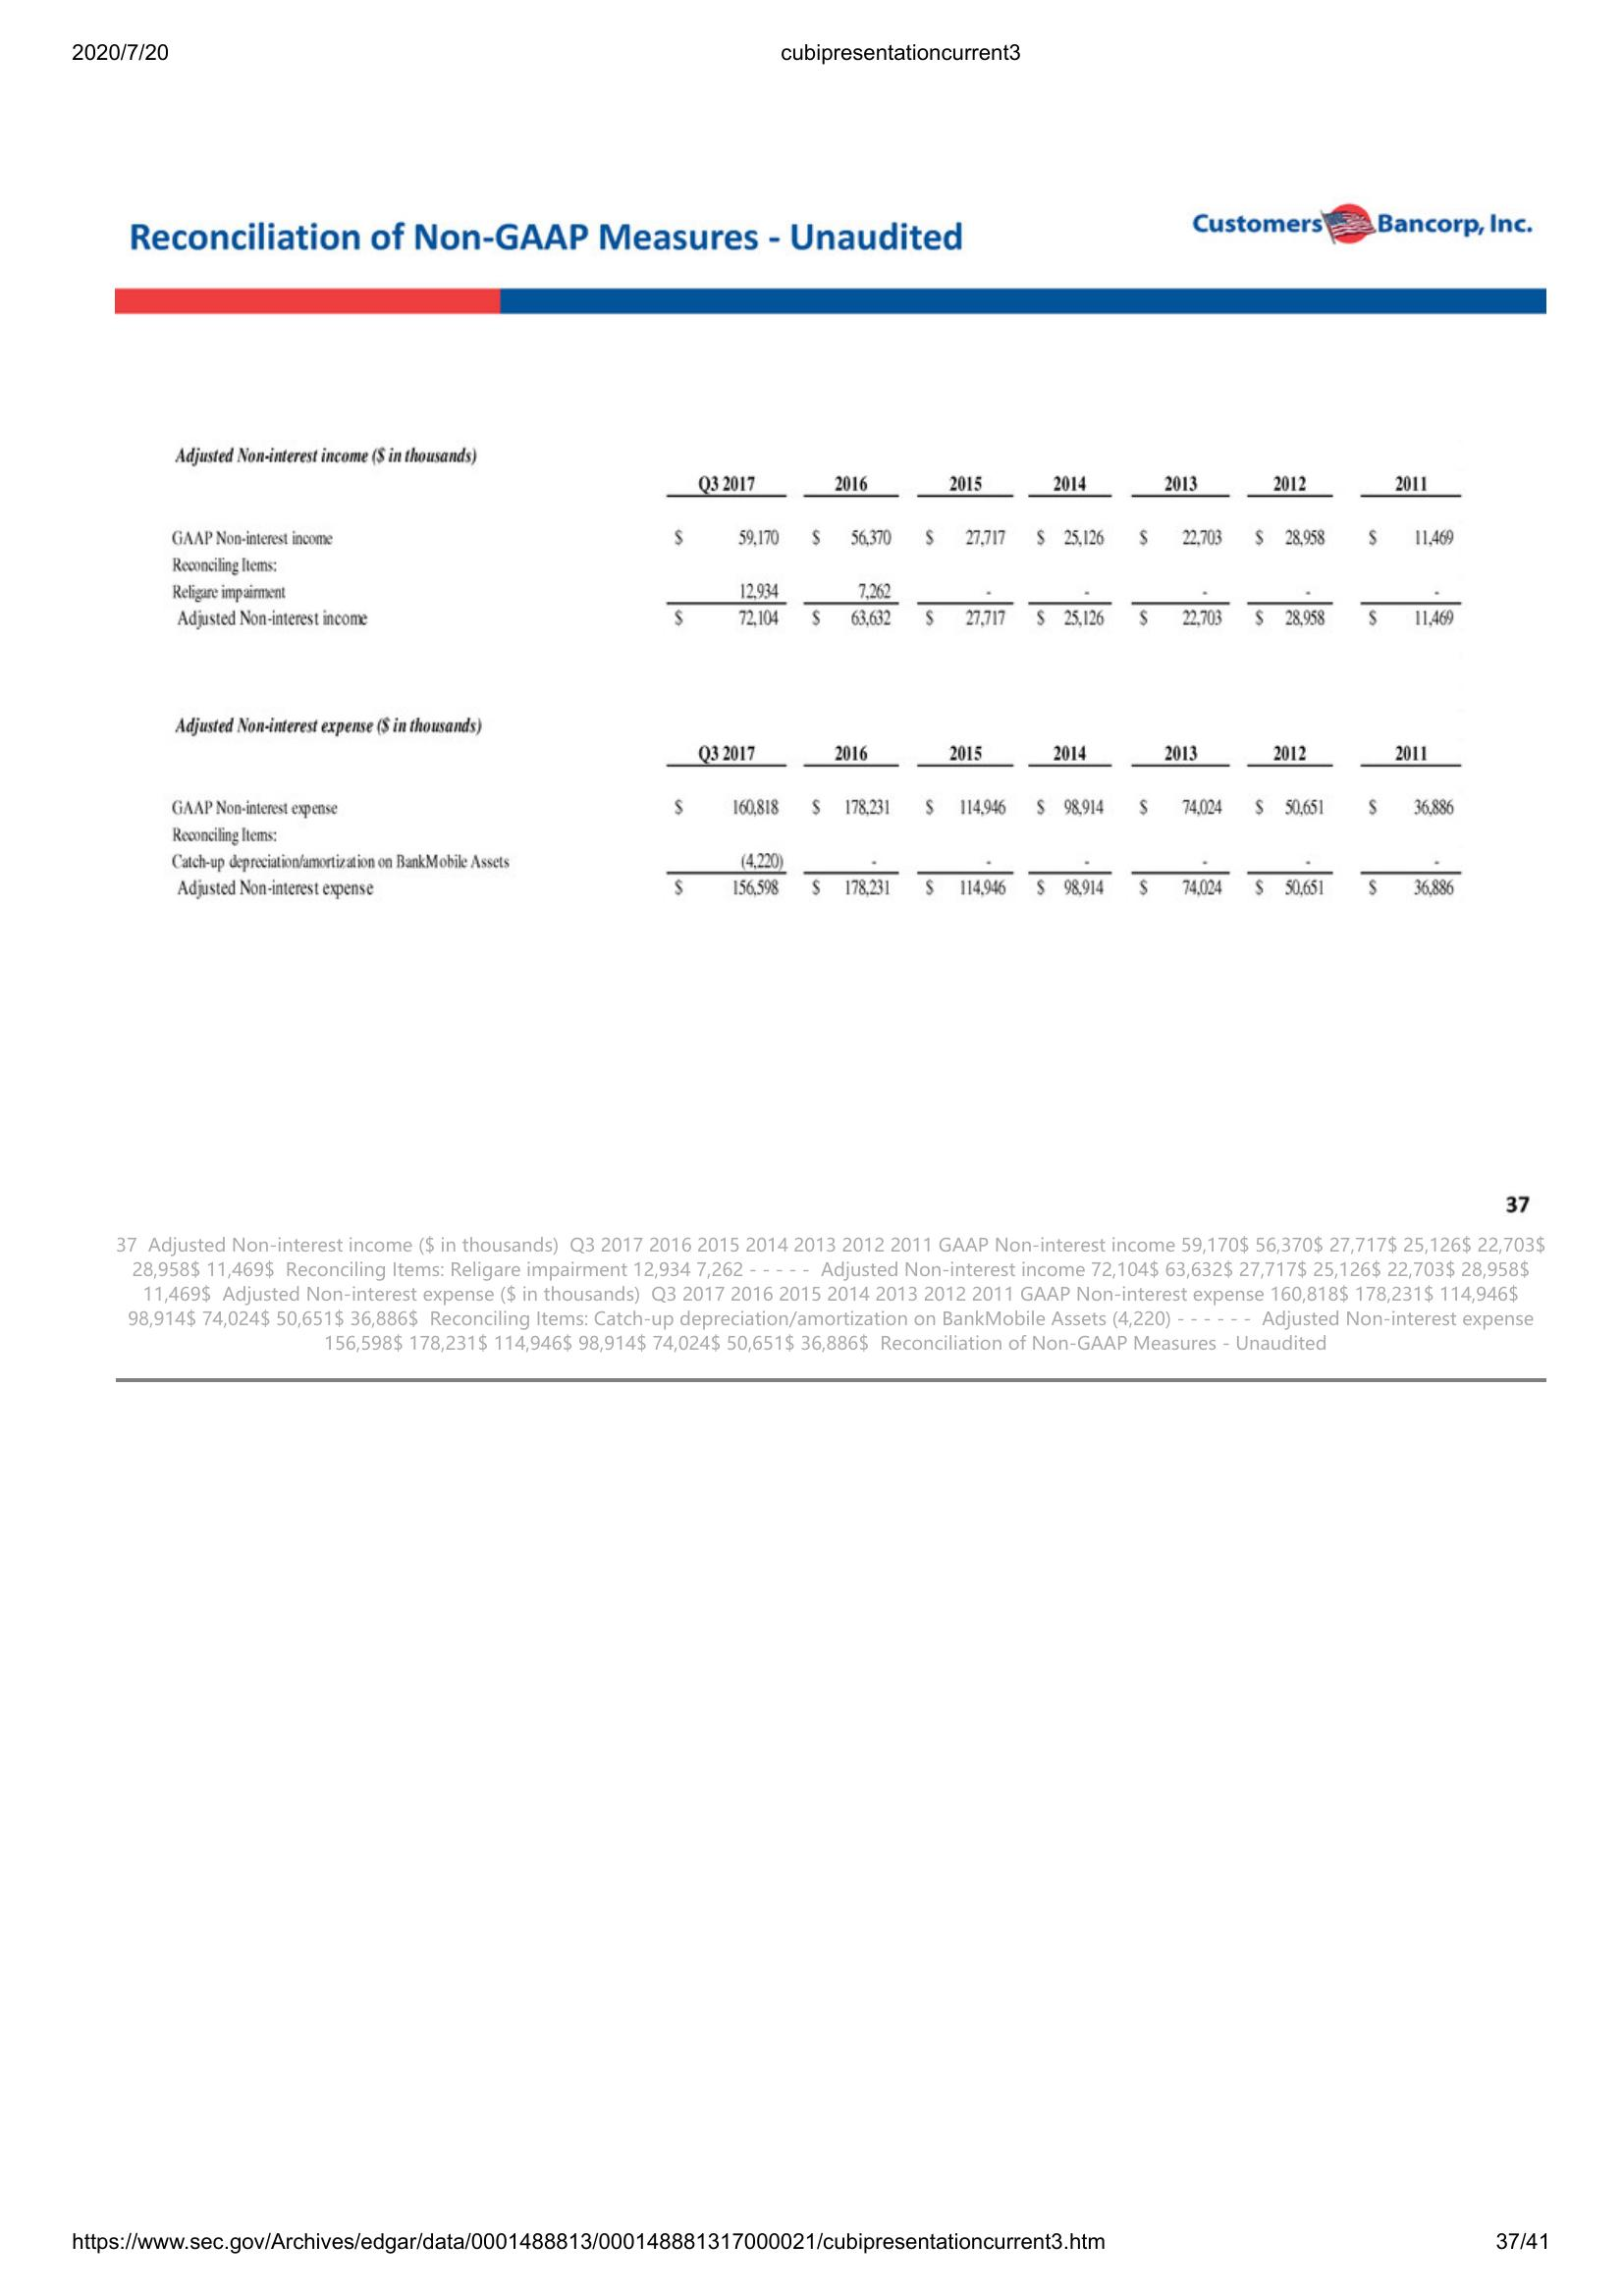table: (160, 435, 1470, 906)
